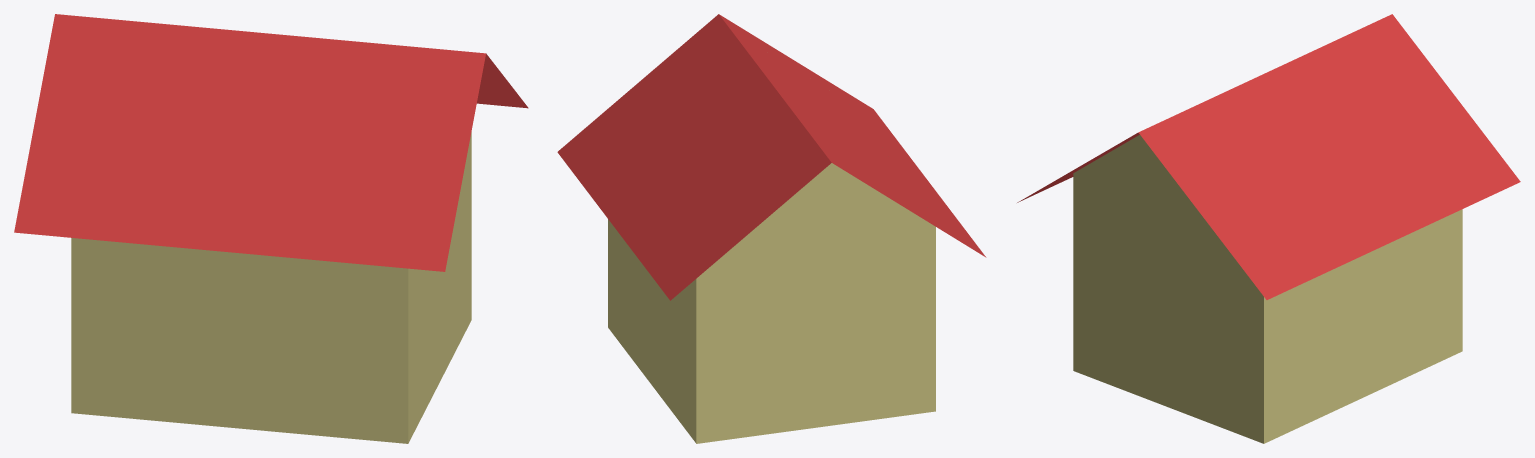
3 renders of one model, left to right at view 1: azimuth 30°, elevation 25°; view 2: azimuth 150°, elevation 25°; view 3: azimuth 270°, elevation 25°, orthographic. The views are drawn at different scales.
Bounding box in the file's own units: 18.45 × 18.36 × 11.49.
